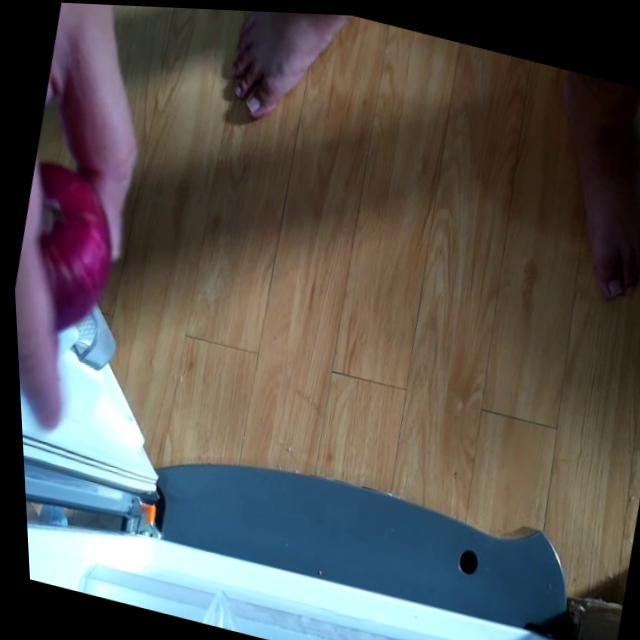onion: (6, 150, 126, 354)
